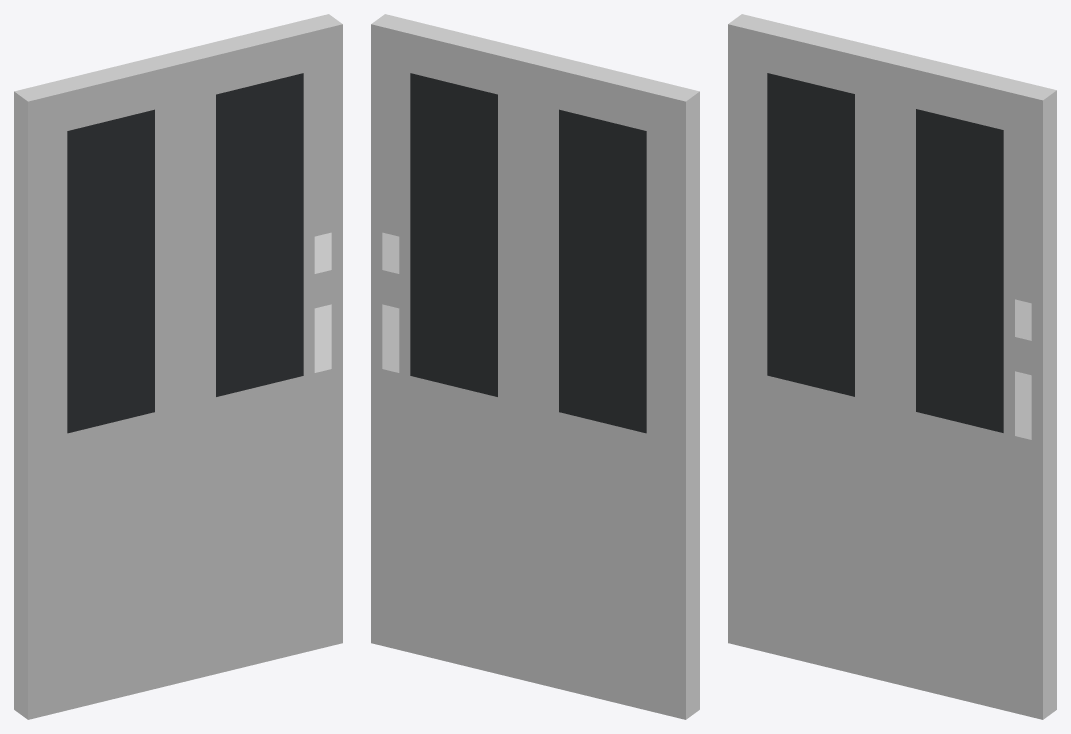
Rendered from Door1.glb.
3 renders of one model, left to right at view 1: azimuth 30°, elevation 25°; view 2: azimuth 150°, elevation 25°; view 3: azimuth 330°, elevation 25°, orthographic.
Parts seen in each view (by area): view 1: Door_01; view 2: Door_01; view 3: Door_01.
Part boxes in pixels (x1,y1,x2,y2): Door_01: [14, 14, 342, 719]; Door_01: [371, 14, 699, 719]; Door_01: [728, 14, 1056, 719].
Bounding box in the file's own units: 0.02 × 0.0375 × 0.00153.
1 material, 1 textured.
